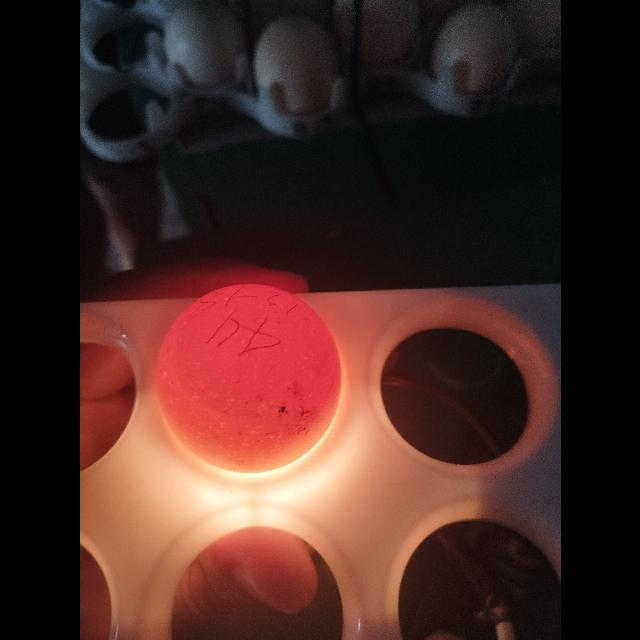Infertile: (150, 279, 348, 479)
